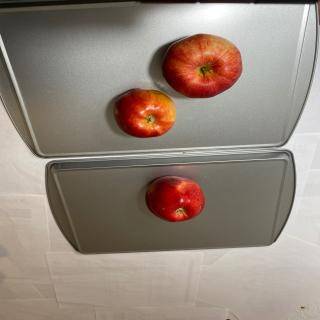Apple: (162, 33, 242, 99), (113, 88, 176, 138), (145, 175, 205, 222)
